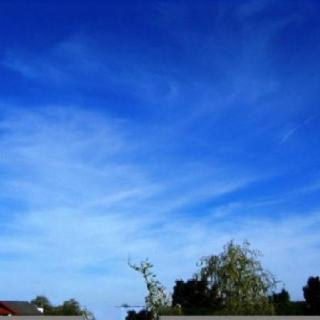Cirrus: (6, 0, 316, 286)
